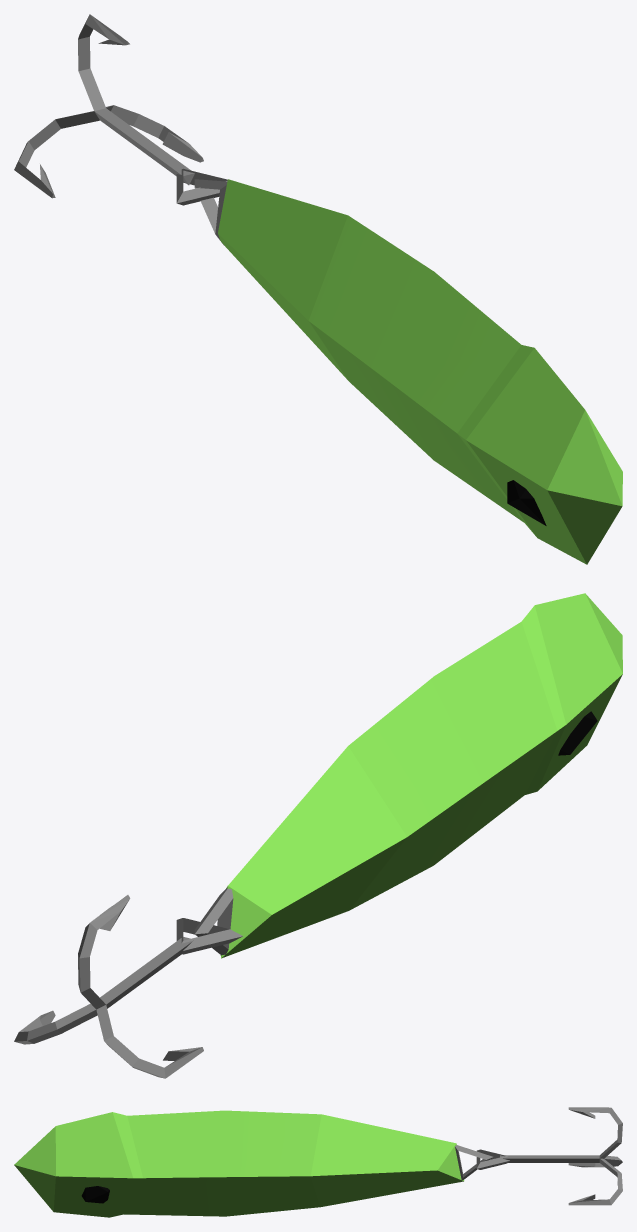
File: Standard Lure.glb
3 renders of one model, top to bottom at view 1: azimuth 30°, elevation 25°; view 2: azimuth 150°, elevation 25°; view 3: azimuth 270°, elevation 25°, orthographic. The views are drawn at different scales.
Visible parts, largest first — view 1: Standard Lure; view 2: Standard Lure; view 3: Standard Lure.
Boxes of the visible parts, bbox=[...] form: Standard Lure: bbox=[14, 14, 622, 564]; Standard Lure: bbox=[14, 593, 622, 1078]; Standard Lure: bbox=[14, 1107, 622, 1217].
Size of the model in its own units: 0.0394 by 0.0487 by 0.2437.
1 material, 1 textured.
